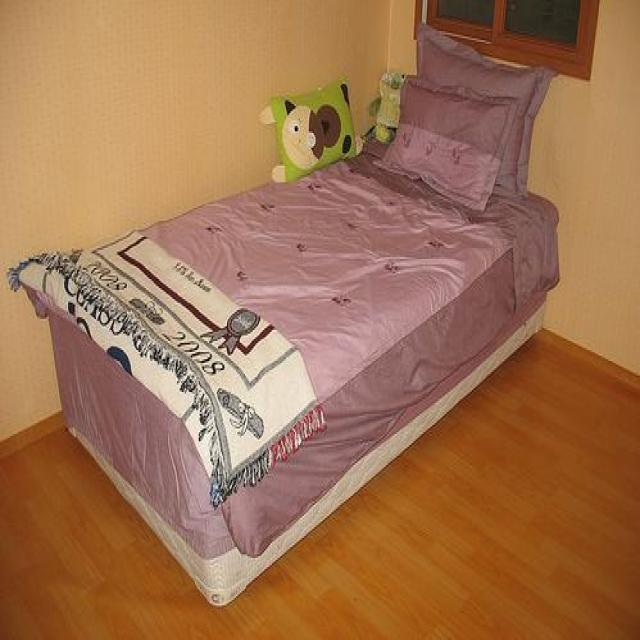bed: (7, 130, 560, 606)
